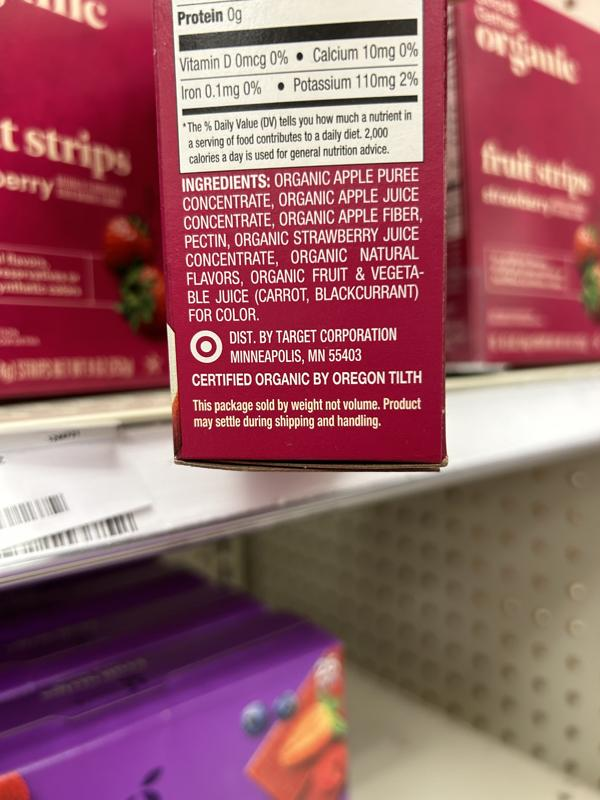ingredients: (179, 165, 425, 325)
